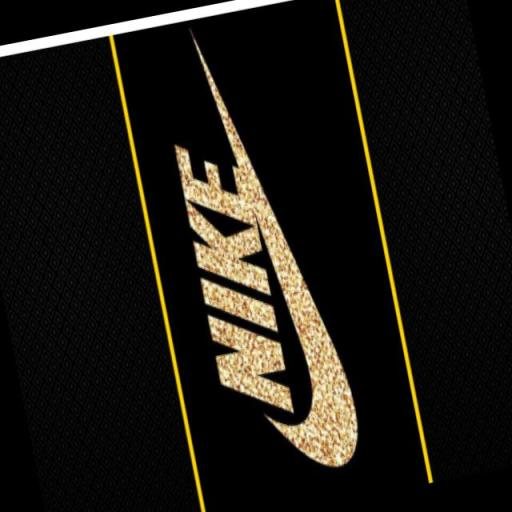Nike: (205, 46, 371, 484), (170, 122, 296, 424)
